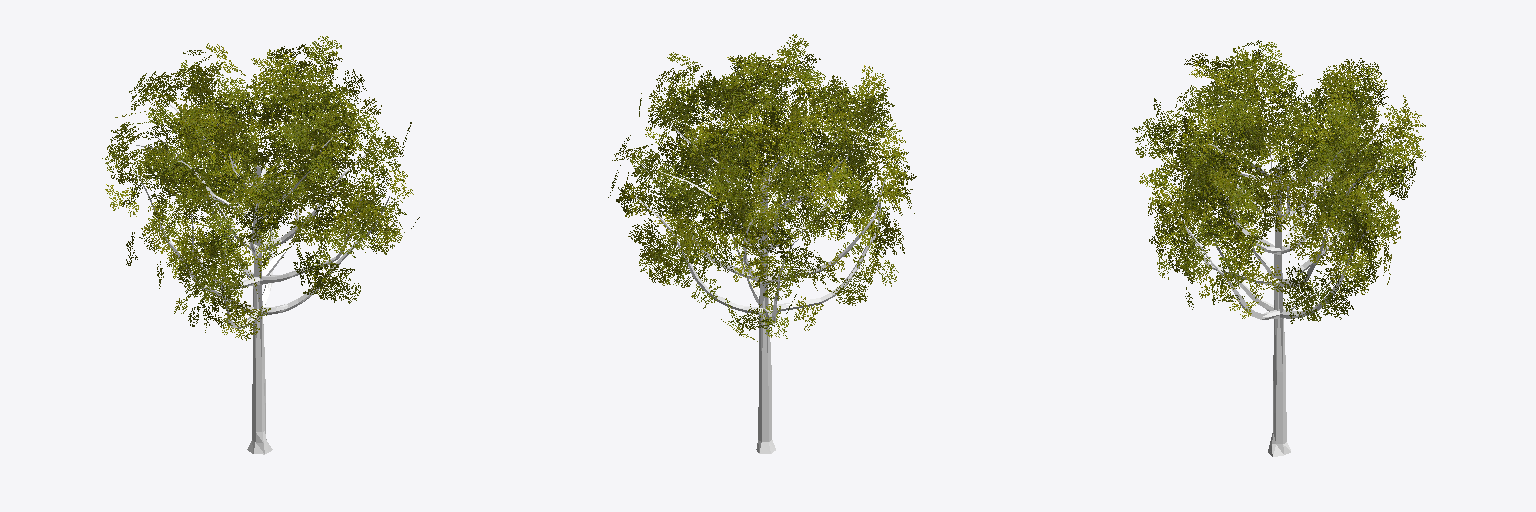
3 views of the same model, side by side, from view 1: azimuth 30°, elevation 25°; view 2: azimuth 150°, elevation 25°; view 3: azimuth 270°, elevation 25° (orthographic).
Parts seen in each view (by area): view 1: Foliage__leafcard, Bark; view 2: Foliage__leafcard, Bark; view 3: Foliage__leafcard, Bark.
Boxes of the visible parts, box(x1,y1,x2,y2) form: Foliage__leafcard: box(102, 36, 419, 340); Bark: box(133, 84, 389, 454); Foliage__leafcard: box(608, 34, 916, 341); Bark: box(635, 75, 887, 453); Foliage__leafcard: box(1132, 40, 1425, 323); Bark: box(1168, 91, 1396, 456).
Size of the model in its own units: 13.98 by 20 by 13.98.
Materials: 2 (1 with a texture image).